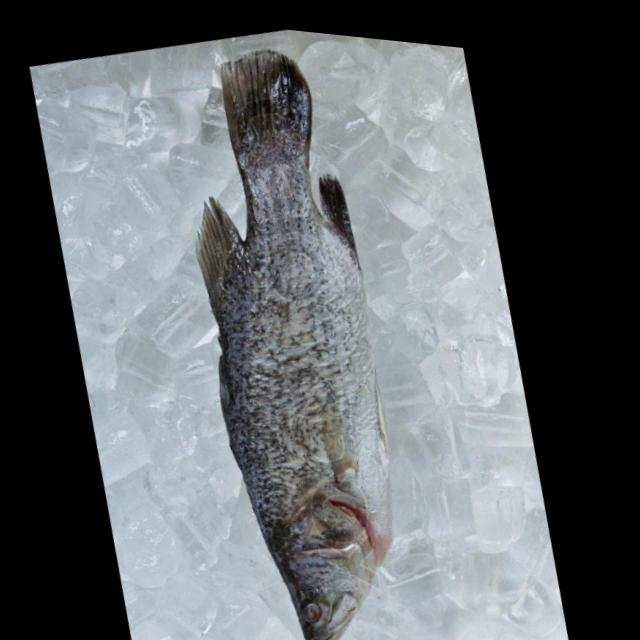Seabass: (121, 23, 469, 640)
